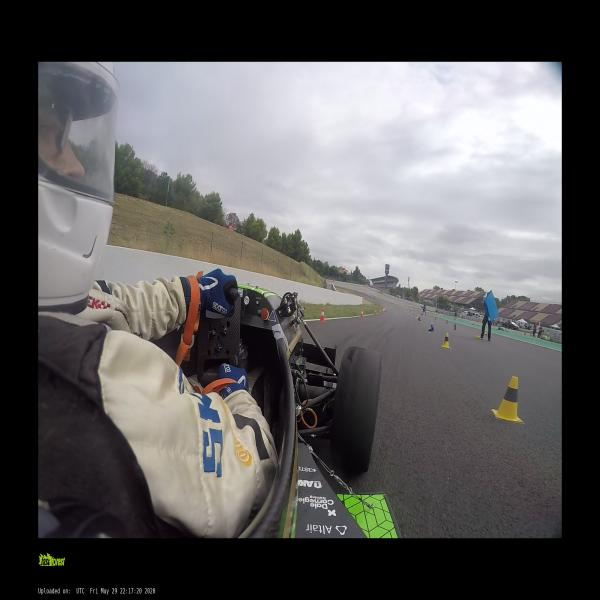blue_cone: (428, 327, 434, 332), (445, 320, 448, 324), (454, 324, 456, 330), (418, 317, 421, 321), (454, 323, 456, 328)
orange_cone: (320, 308, 324, 322), (360, 310, 363, 318), (374, 310, 377, 315)
yellow_cone: (492, 377, 524, 422), (440, 332, 450, 348), (416, 315, 418, 319), (412, 312, 413, 316)
